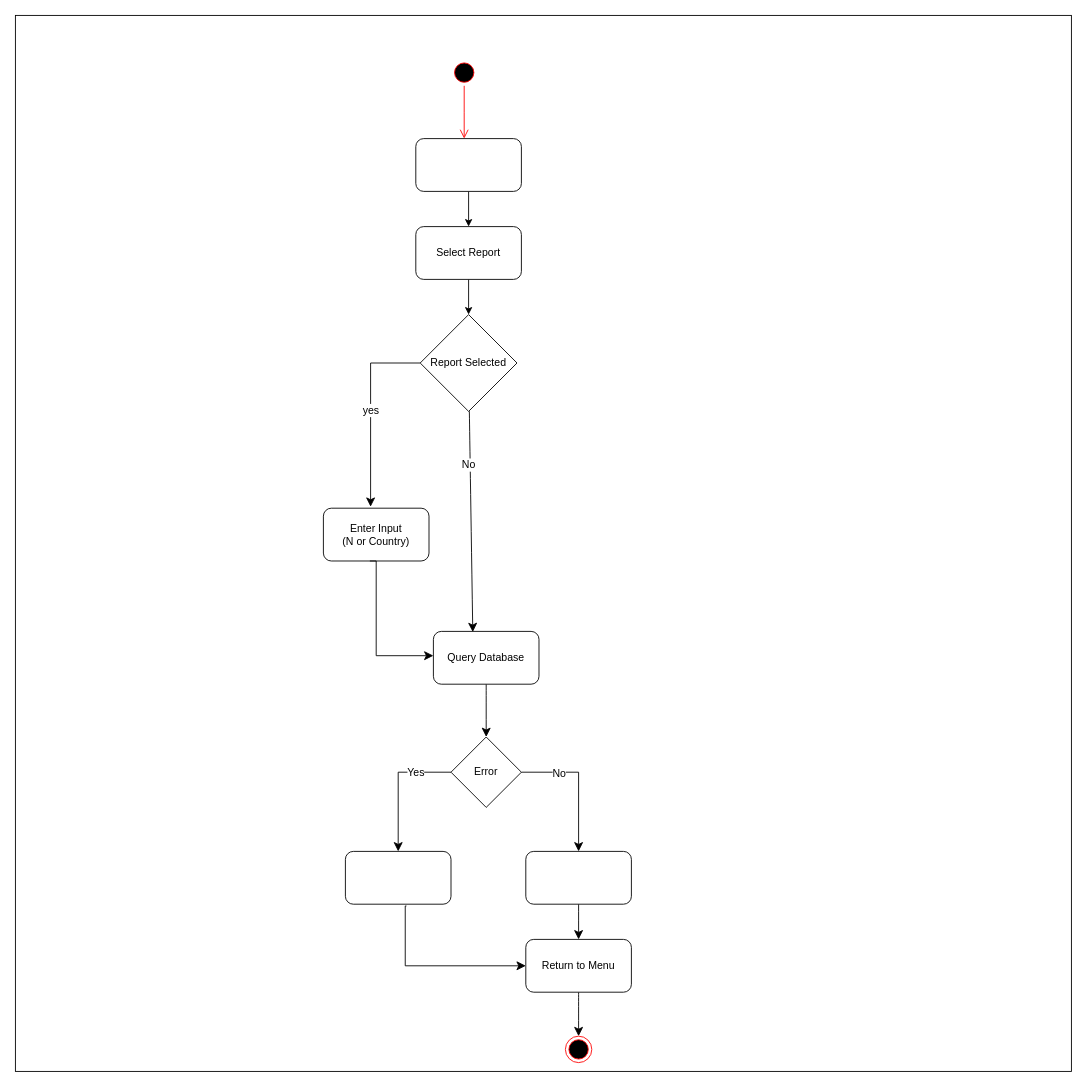
Image size: 1087x1087. Some labels were removed from this diagram. The centre of each missing label's shape, as x and y in pixels:
Display Menu: the point at 468,164
Display Results: the point at 578,877
Show Error Message: the point at 398,877
